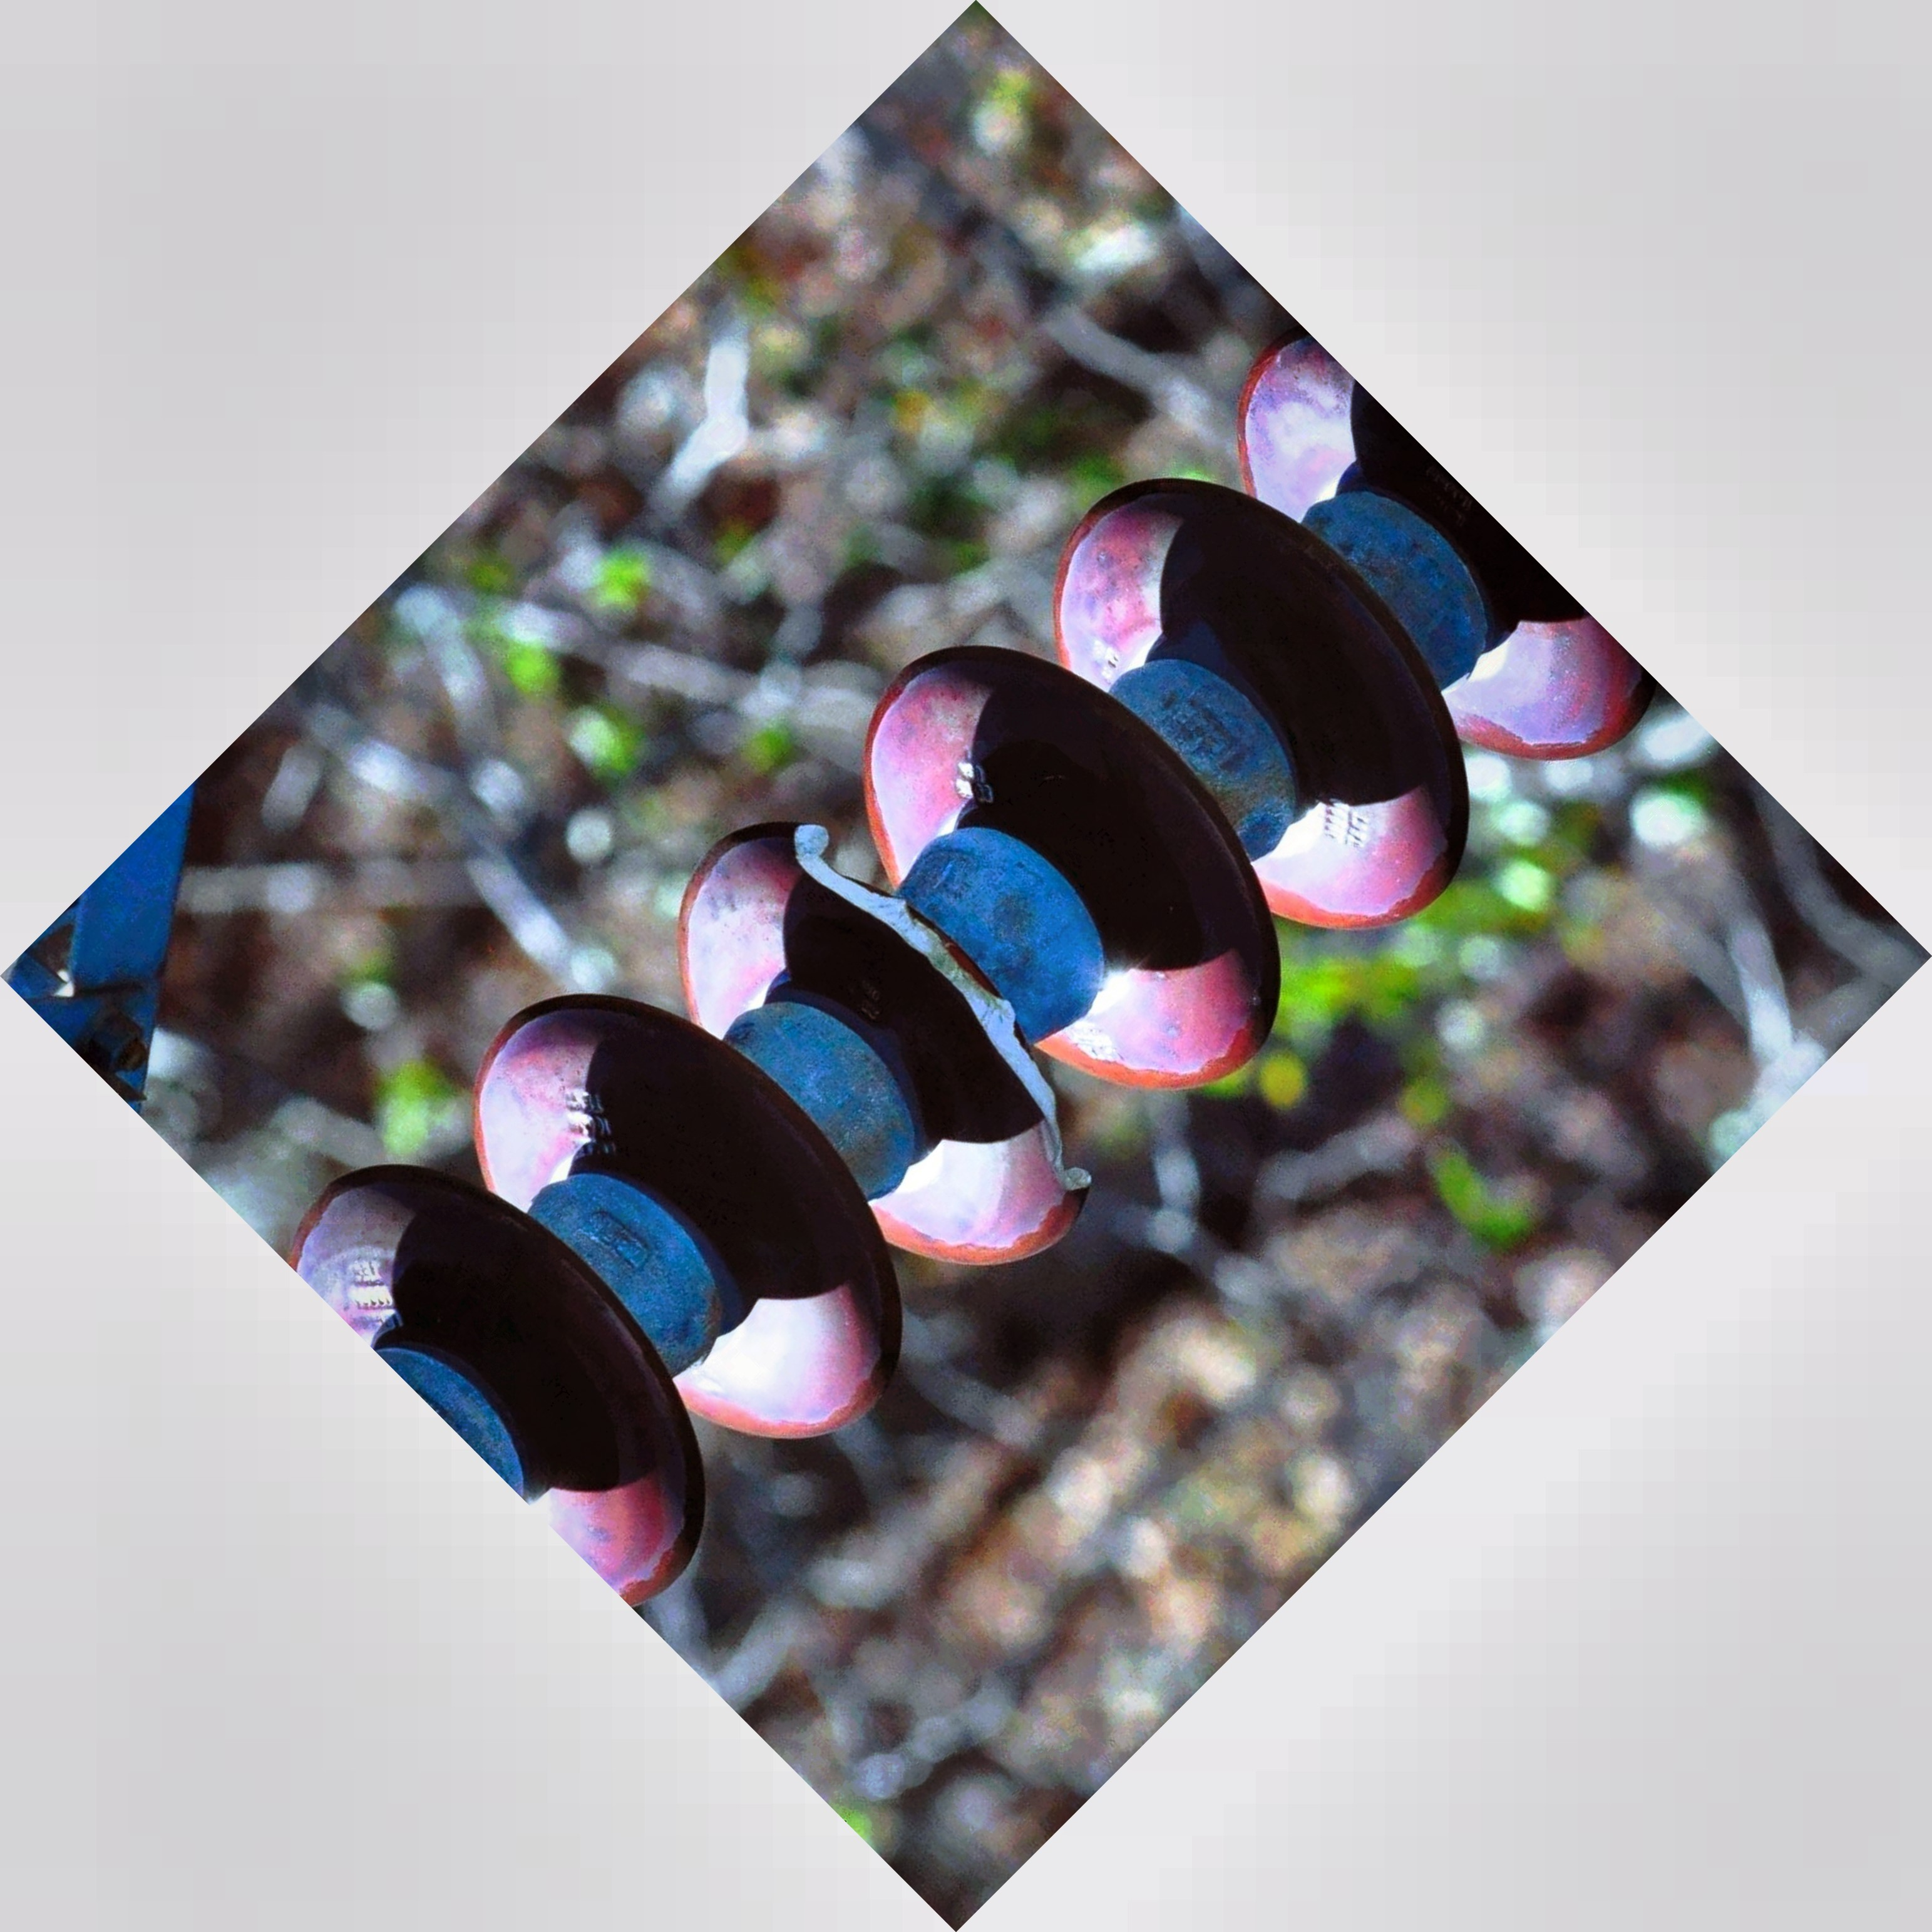insulator breakage: (655, 801, 1111, 1274)
